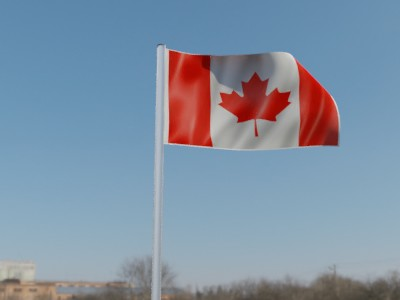Canada flag: (166, 50, 346, 151)
